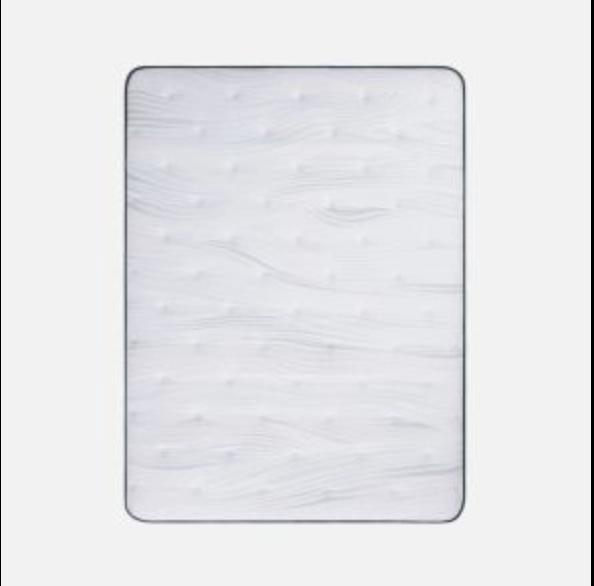Bed-Mattress: (121, 60, 472, 526)
